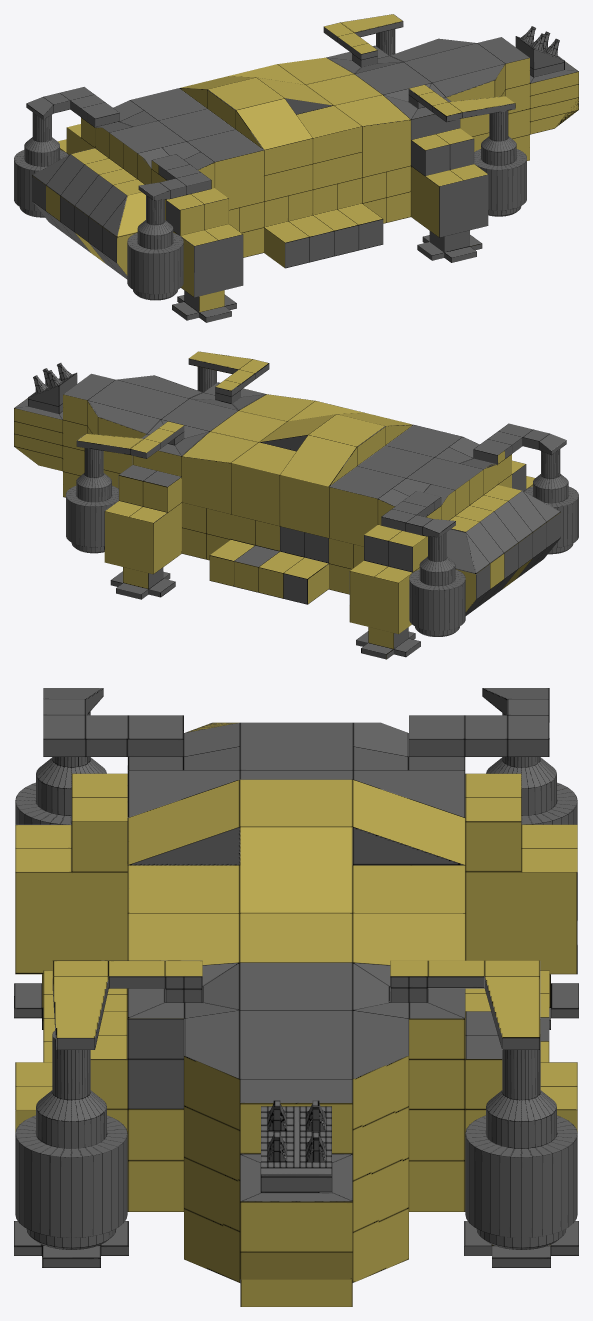
The model's file is drop_ship.obj.
The picture shows the model from 3 angles, top to bottom: view 1: azimuth 30°, elevation 25°; view 2: azimuth 150°, elevation 25°; view 3: azimuth 270°, elevation 25°; orthographic projection. The views are drawn at different scales.
Visible parts, largest first — view 1: main_body_Cube, engine_f_l_Cylinder; view 2: main_body_Cube, engine_f_l_Cylinder; view 3: main_body_Cube, engine_f_l_Cylinder.
Boxes of the visible parts, x1,y1,x2,y2 form: main_body_Cube: (26, 14, 578, 322); engine_f_l_Cylinder: (14, 29, 526, 300); main_body_Cube: (14, 351, 566, 659); engine_f_l_Cylinder: (66, 366, 578, 636); main_body_Cube: (14, 688, 578, 1306); engine_f_l_Cylinder: (15, 711, 577, 1249).
Bounding box in the file's own units: 20 × 5.84 × 10.04.
Materials: 2 (2 with a texture image).
